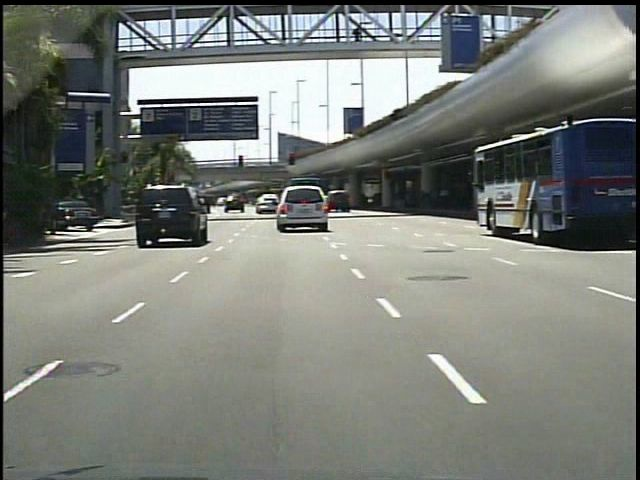person: (340, 24, 358, 49)
